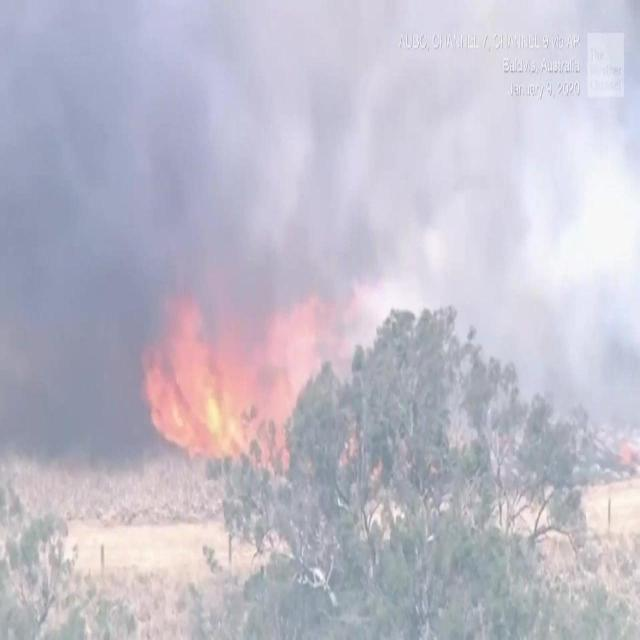Fire: (139, 293, 327, 477)
